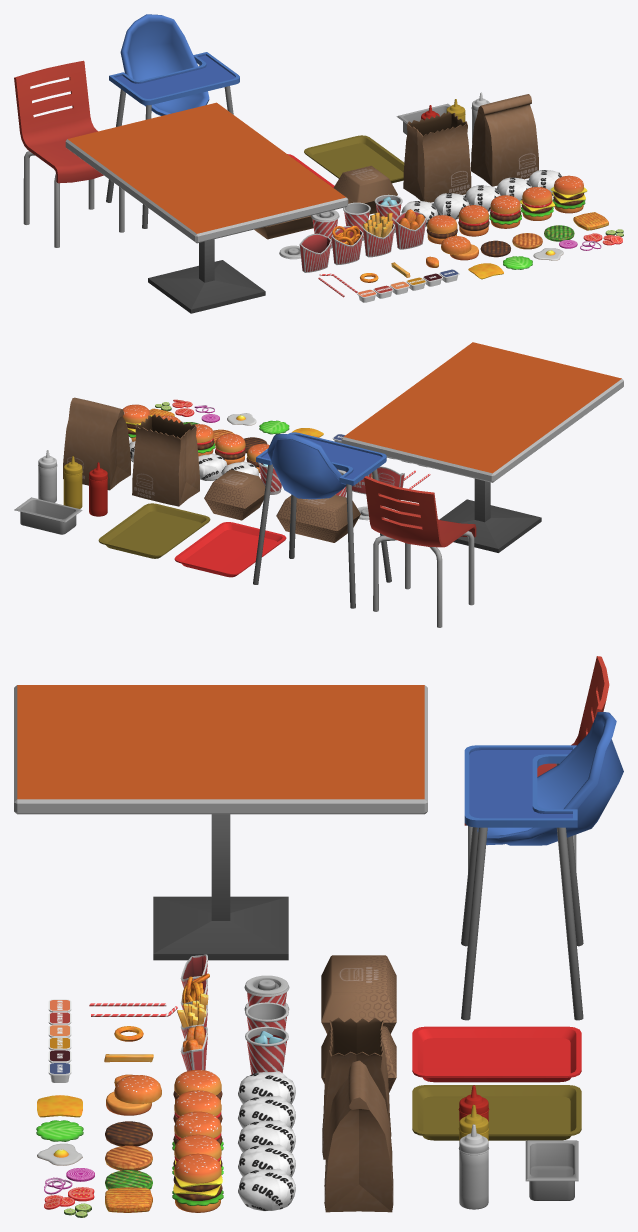
The model's file is I143-卡通快餐资产_FBX.fbx.
3 renders of one model, top to bottom at view 1: azimuth 30°, elevation 25°; view 2: azimuth 150°, elevation 25°; view 3: azimuth 270°, elevation 25°, orthographic. The views are drawn at different scales.
Parts seen in each view (by area): view 1: Table_Color_Palette_0, Baby_Seat_Color_Palette_0, Chair_Color_Palette_0, Package_Opened_Packages_0, Package_Closed_Packages_0, Tray_001_Tray_Yellow_0, Box_Small_Top_Packages_0, Double_Burger_Double_Burger_0, Chips_Box_003_Burger_Extras_0, Cheese_Burger_Cheese_Burger_0, Hamburger_Hamburger_0, Mid_Burger_Mid_Burger_0 (+19 smaller); view 2: Table_Color_Palette_0, Baby_Seat_Color_Palette_0, Chair_Color_Palette_0, Package_Opened_Packages_0, Package_Closed_Packages_0, Tray_001_Tray_Yellow_0, Tray_Tray_Red_0, Box_Big_Top_Packages_0, Metal_Case_Color_Palette_0, Box_Small_Top_Packages_0, 0, 1 (+8 smaller); view 3: Table_Color_Palette_0, Baby_Seat_Color_Palette_0, Tray_Tray_Red_0, Package_Closed_Packages_0, Tray_001_Tray_Yellow_0, Box_Big_Top_Packages_0, Package_Opened_Packages_0, Metal_Case_Color_Palette_0, Double_Burger_Double_Burger_0, 2, Burger_Packed_004_Burger_Packed_0, Coke_Opened_Burger_Extras_0 (+19 smaller).
Boxes of the visible parts, x1,y1,x2,y2 form: Table_Color_Palette_0: (65, 102, 348, 313); Baby_Seat_Color_Palette_0: (106, 14, 239, 228); Chair_Color_Palette_0: (14, 60, 124, 247); Package_Opened_Packages_0: (403, 111, 471, 202); Package_Closed_Packages_0: (471, 94, 538, 186); Tray_001_Tray_Yellow_0: (304, 135, 404, 183); Box_Small_Top_Packages_0: (333, 165, 397, 203); Double_Burger_Double_Burger_0: (550, 175, 587, 213); Chips_Box_003_Burger_Extras_0: (299, 233, 331, 272); Cheese_Burger_Cheese_Burger_0: (519, 187, 555, 220); Hamburger_Hamburger_0: (489, 195, 521, 228); Mid_Burger_Mid_Burger_0: (458, 205, 489, 236); Table_Color_Palette_0: (341, 342, 623, 552); Baby_Seat_Color_Palette_0: (253, 432, 391, 608); Chair_Color_Palette_0: (364, 476, 476, 627); Package_Opened_Packages_0: (132, 414, 199, 506); Package_Closed_Packages_0: (63, 397, 130, 490); Tray_001_Tray_Yellow_0: (98, 503, 210, 558); Tray_Tray_Red_0: (174, 522, 286, 577); Box_Big_Top_Packages_0: (276, 495, 360, 530); Metal_Case_Color_Palette_0: (14, 497, 82, 534); Box_Small_Top_Packages_0: (204, 469, 265, 508); 0: (88, 462, 107, 516); 1: (63, 456, 82, 508); Table_Color_Palette_0: (14, 685, 427, 960); Baby_Seat_Color_Palette_0: (461, 712, 623, 1020); Tray_Tray_Red_0: (412, 1026, 581, 1082); Package_Closed_Packages_0: (324, 1060, 393, 1212); Tray_001_Tray_Yellow_0: (412, 1085, 581, 1140); Box_Big_Top_Packages_0: (321, 955, 396, 1022); Package_Opened_Packages_0: (322, 1017, 391, 1159); Metal_Case_Color_Palette_0: (525, 1140, 578, 1200); Double_Burger_Double_Burger_0: (172, 1153, 223, 1212); 2: (458, 1124, 489, 1209); Burger_Packed_004_Burger_Packed_0: (238, 1168, 295, 1211); Coke_Opened_Burger_Extras_0: (245, 1026, 288, 1074).
Bounding box in the file's own units: 3539 × 1301 × 2652.
96 materials, 91 textured.
